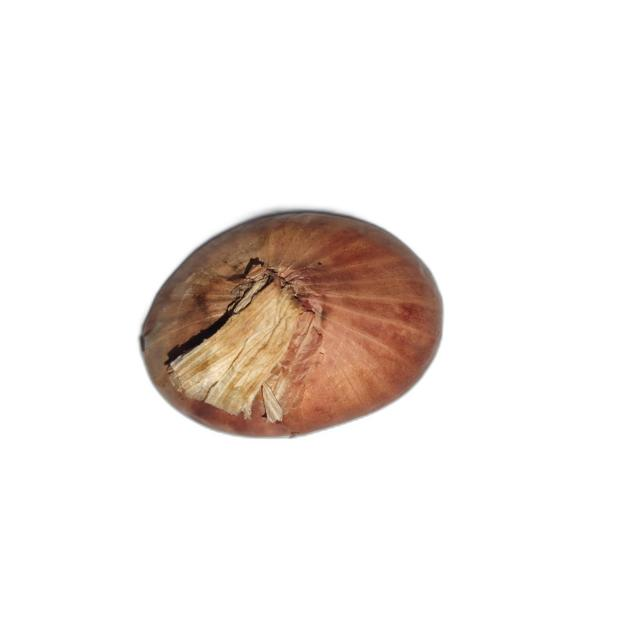onion: (138, 211, 448, 439)
